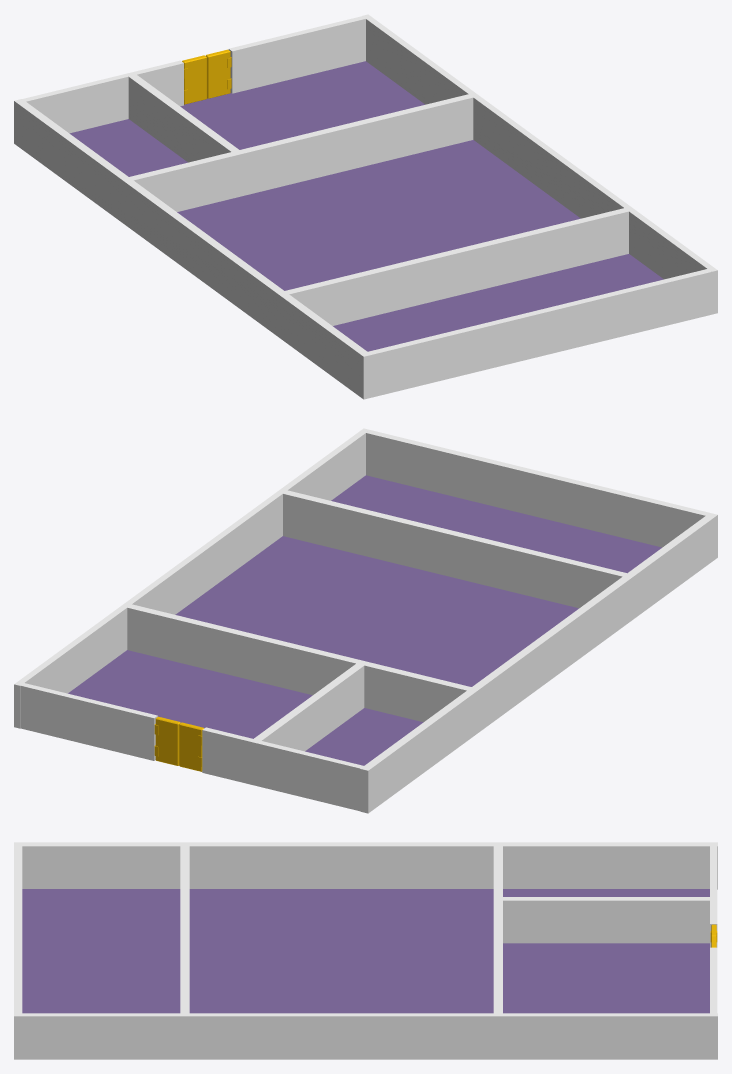
The model's file is maps_96.fbx.
3 renders of one model, top to bottom at view 1: azimuth 30°, elevation 25°; view 2: azimuth 150°, elevation 25°; view 3: azimuth 270°, elevation 25°, orthographic.
Parts seen in each view (by area): view 1: wall_01_08_geo, wall_01_07_geo, wall_01_05_geo, wall_01_07_geo5, wall_01_07_geo4, wall_01_06_geo, wall_01_09_geo1, wall_01_09_geo, wall_01_07_geo2, polySurface161, polySurface165; view 2: wall_01_08_geo, wall_01_07_geo, wall_01_07_geo4, wall_01_05_geo, wall_01_06_geo, wall_01_07_geo5, wall_01_09_geo, wall_01_09_geo1, wall_01_07_geo2, polySurface161, polySurface165; view 3: wall_01_08_geo, wall_01_06_geo, wall_01_07_geo, wall_01_07_geo2, wall_01_07_geo4, wall_01_07_geo5, wall_01_05_geo, wall_01_09_geo, wall_01_09_geo1.
Boxes of the visible parts, x1,y1,x2,y2 form: wall_01_08_geo: (69,61,663,351); wall_01_07_geo: (14,99,371,399); wall_01_05_geo: (368,269,711,397); wall_01_07_geo5: (129,94,473,211); wall_01_07_geo4: (285,208,628,325); wall_01_06_geo: (362,14,717,314); wall_01_09_geo1: (228,16,365,93); wall_01_09_geo: (22,60,183,133); wall_01_07_geo2: (128,74,239,162); polySurface161: (205,49,231,98); polySurface165: (182,55,206,104); wall_01_08_geo: (68,475,661,765); wall_01_07_geo: (360,513,717,813); wall_01_07_geo4: (283,490,626,608); wall_01_05_geo: (366,430,709,547); wall_01_06_geo: (14,428,369,728); wall_01_07_geo5: (127,604,471,722); wall_01_09_geo: (202,727,363,811); wall_01_09_geo1: (20,683,157,760); wall_01_07_geo2: (253,663,364,751); polySurface161: (154,716,180,765); polySurface165: (179,722,203,771); wall_01_08_geo: (22,889,709,1013); wall_01_06_geo: (14,1013,717,1059); wall_01_07_geo: (14,842,717,889); wall_01_07_geo2: (502,897,710,943); wall_01_07_geo4: (180,846,189,1013); wall_01_07_geo5: (493,846,502,1013); wall_01_05_geo: (14,846,22,1013); wall_01_09_geo: (710,846,717,947); wall_01_09_geo1: (710,947,717,1013).
Bounding box in the file's own units: 76.85 × 8.89 × 131.
Materials: 2 (2 with a texture image).
